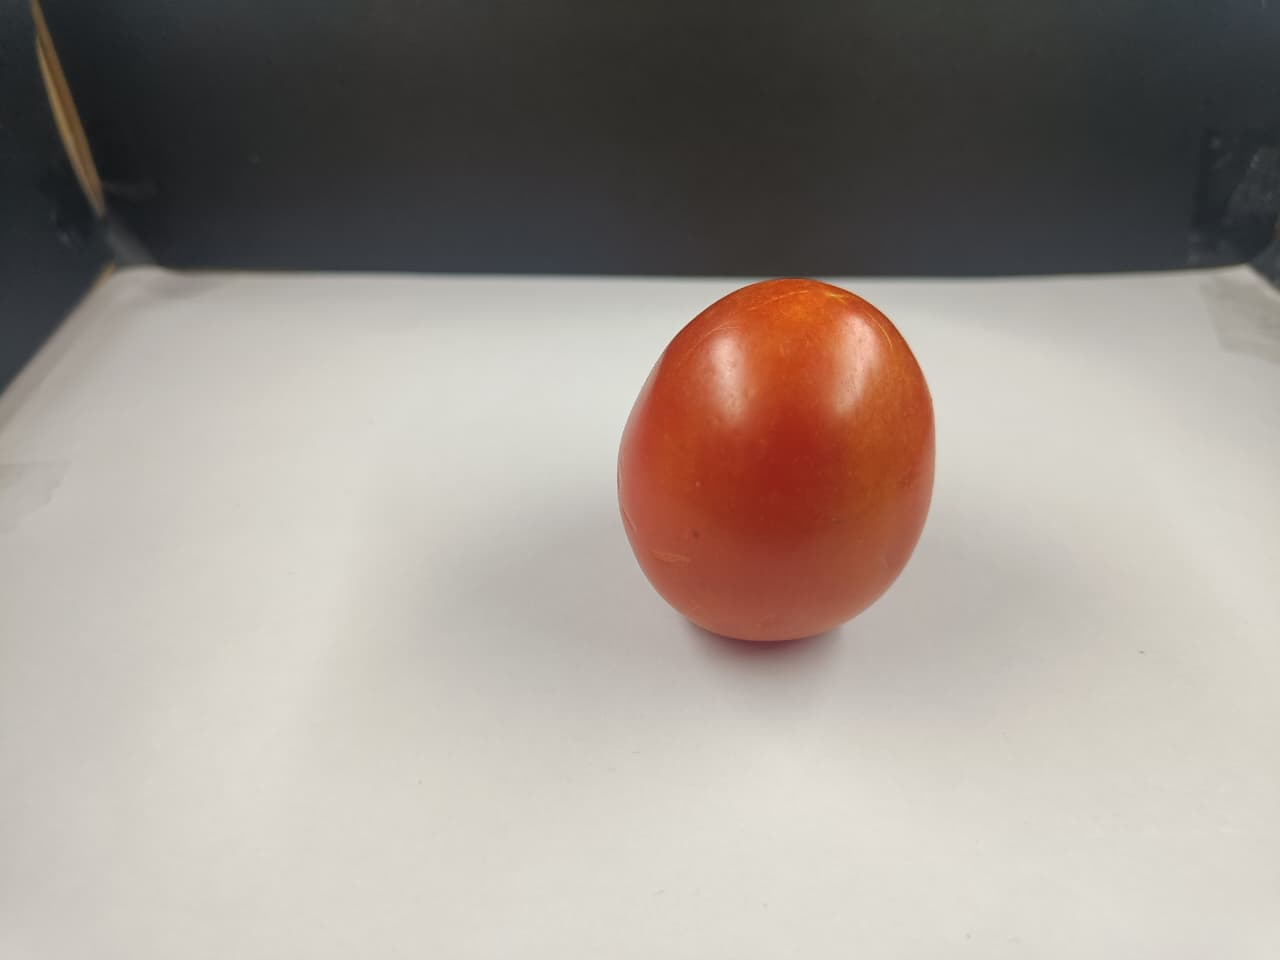ripe: (631, 270, 922, 638)
